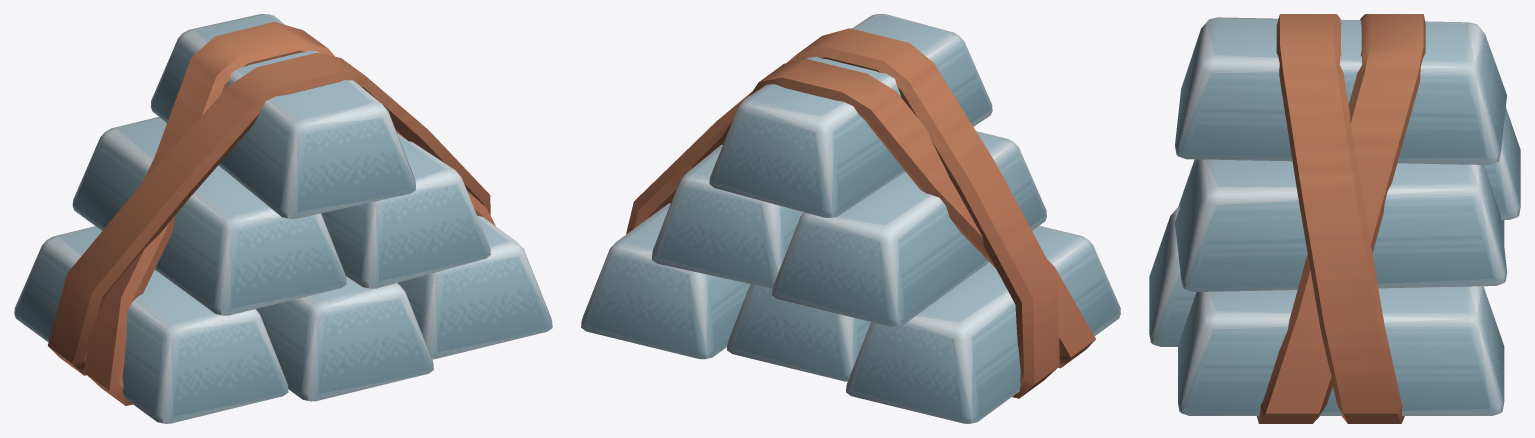
File: Silver_Bars.gltf
3 renders of one model, left to right at view 1: azimuth 30°, elevation 25°; view 2: azimuth 150°, elevation 25°; view 3: azimuth 270°, elevation 25°, orthographic. The views are drawn at different scales.
Parts seen in each view (by area): view 1: Silver_Bars; view 2: Silver_Bars; view 3: Silver_Bars.
Part boxes in pixels (x1,y1,x2,y2): Silver_Bars: [14, 14, 552, 423]; Silver_Bars: [581, 14, 1120, 423]; Silver_Bars: [1149, 14, 1520, 423].
Bounding box in the file's own units: 1.27 × 0.7897 × 0.9106.
1 material, 1 textured.
